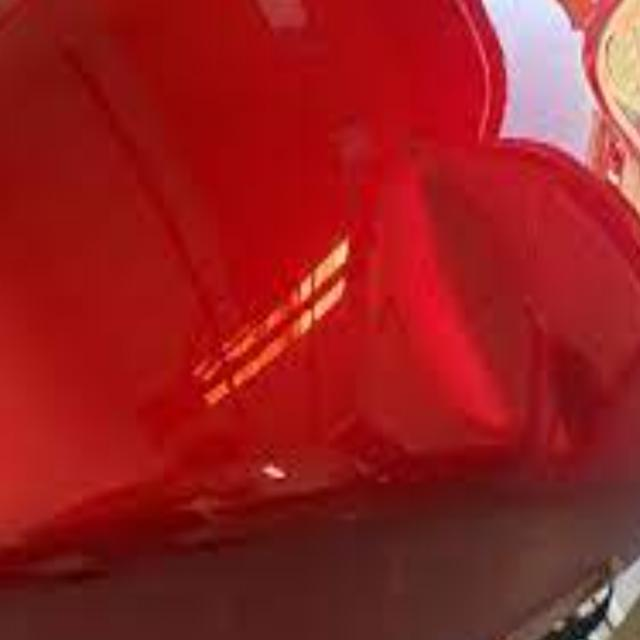dents: (355, 120, 627, 490)
